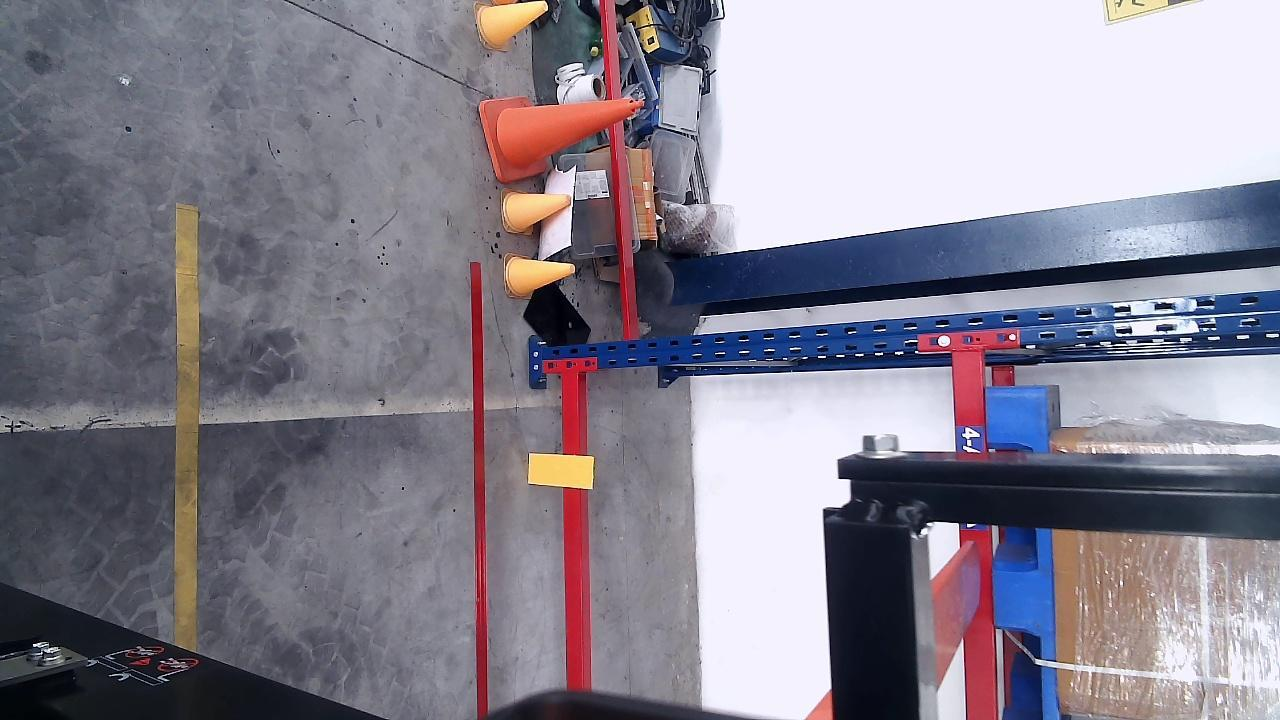h_rack: (952, 351, 998, 718), (562, 373, 589, 689)
orange_strip: (528, 454, 594, 490)
red_line: (471, 259, 489, 717)
small_pallet: (985, 390, 1055, 718)
yellow_line: (175, 201, 198, 655)
